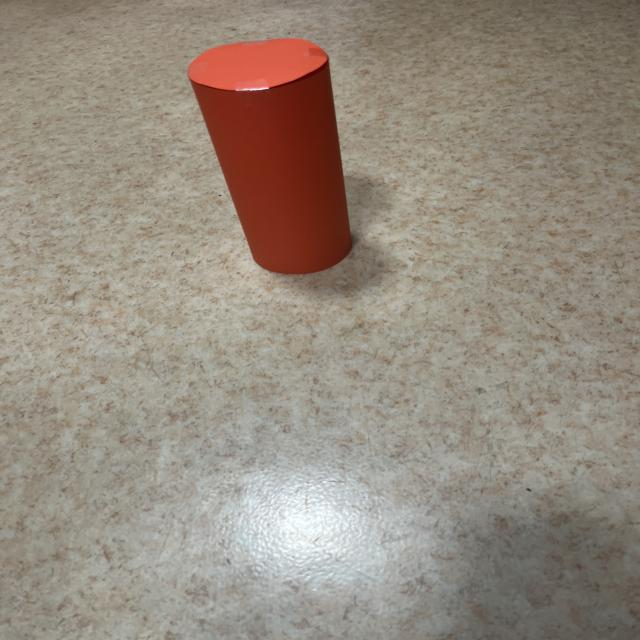przeszkoda: (188, 39, 351, 274)
